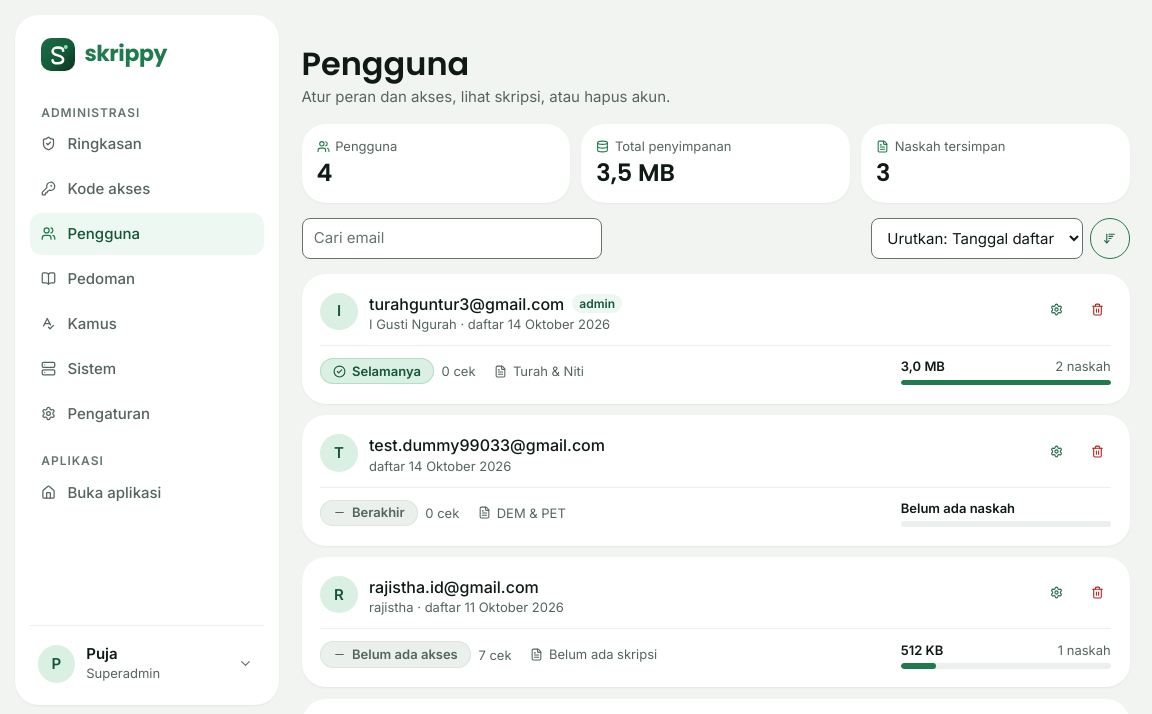
Scenario: halaman pengguna › pencarian menurut email atau nama
This screenshot has width=1152, height=714.
Expected: the text "turahguntur3@gmail.com" is shown, top-left (369, 292), bottom-right (564, 315)
Type "dummy" into the search field with placeholder "Cari email" at (452, 238), box top-left (302, 218), bottom-right (602, 259)
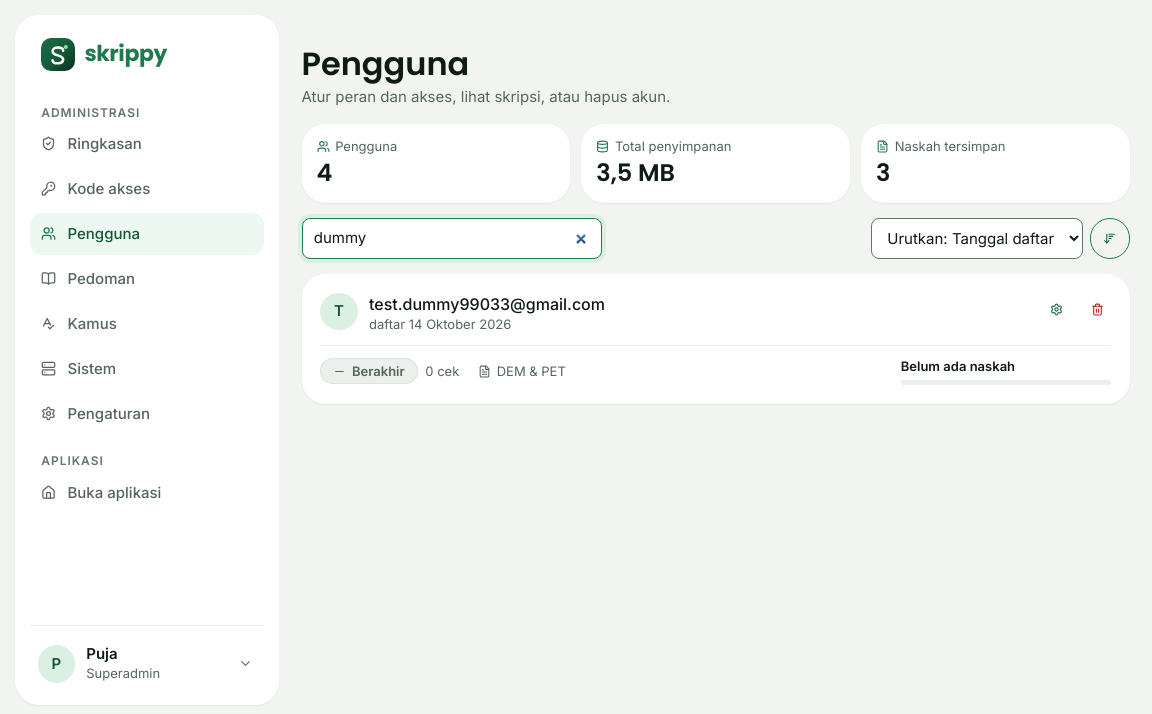
Replace the text in the search field with placeholder "Cari email" with "puja" at (452, 238), box top-left (302, 218), bottom-right (602, 259)
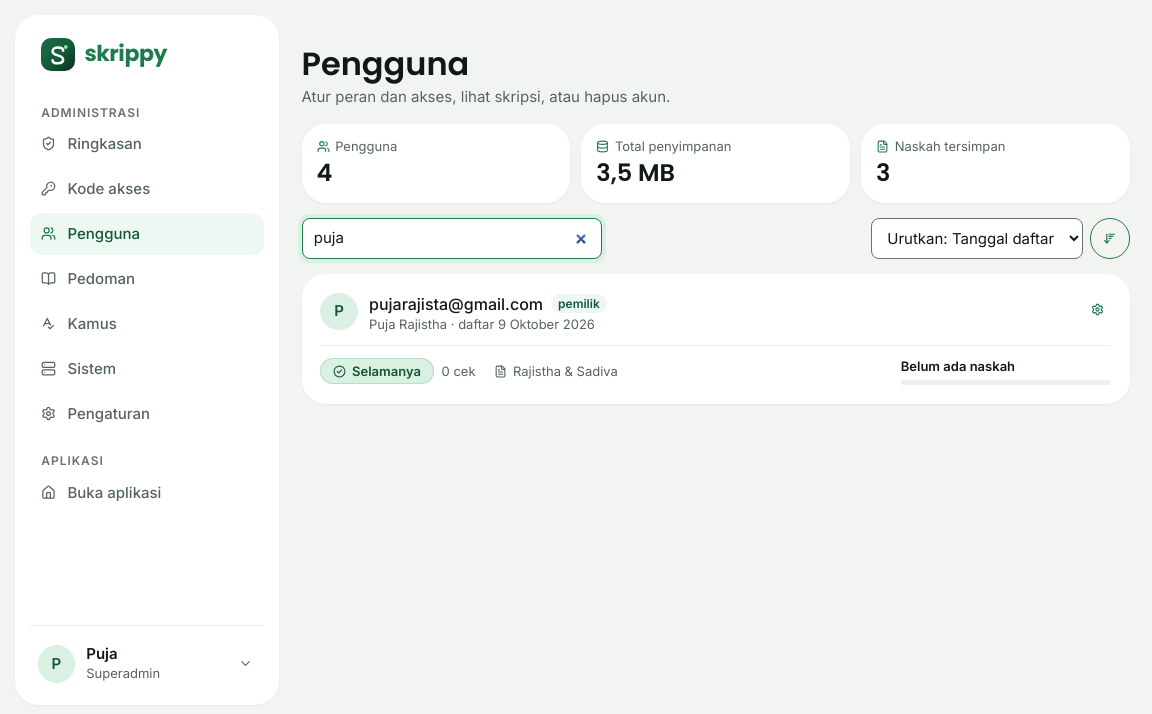
Replace the text in the search field with placeholder "Cari email" with "tidak-ada" at (452, 238), box top-left (302, 218), bottom-right (602, 259)
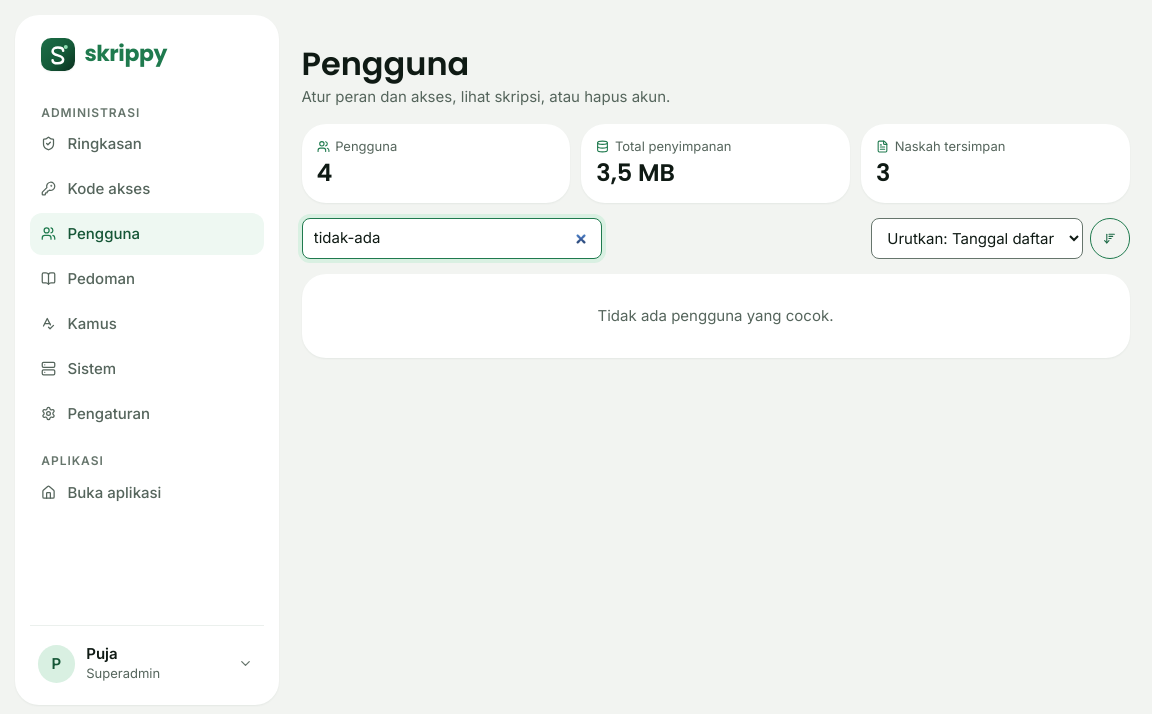
Expected: the text "Tidak ada pengguna yang cocok." is shown, top-left (302, 274), bottom-right (1130, 358)
